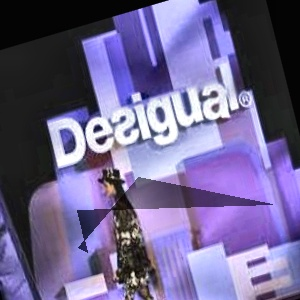desigual: (188, 11, 288, 112)
